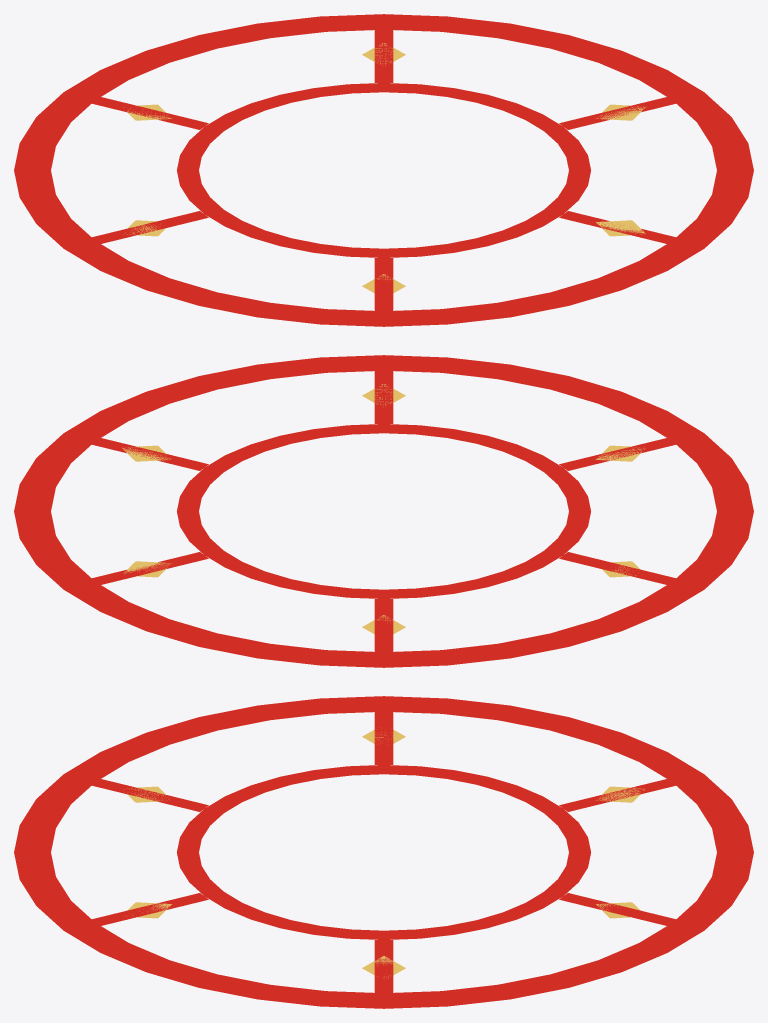
File: stirring_sigil.glb
3 renders of one model, top to bottom at view 1: azimuth 30°, elevation 25°; view 2: azimuth 150°, elevation 25°; view 3: azimuth 270°, elevation 25°, orthographic.
Parts seen in each view (by area): view 1: stirring_sigil; view 2: stirring_sigil; view 3: stirring_sigil.
Boxes of the visible parts, <box> form: stirring_sigil: <box>14,14,753,326</box>; stirring_sigil: <box>14,355,753,667</box>; stirring_sigil: <box>14,696,753,1008</box>.
Bounding box in the file's own units: 2 × 0 × 2.
1 material, 1 textured.
